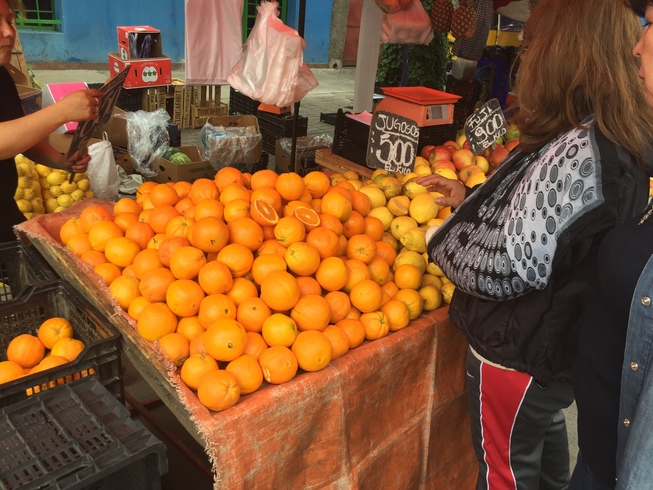precio: (366, 108, 426, 183), (461, 97, 515, 161)
